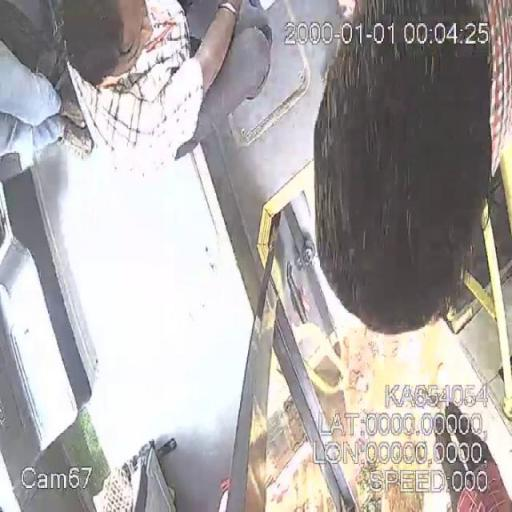persona: (308, 0, 512, 337), (0, 0, 247, 178)
